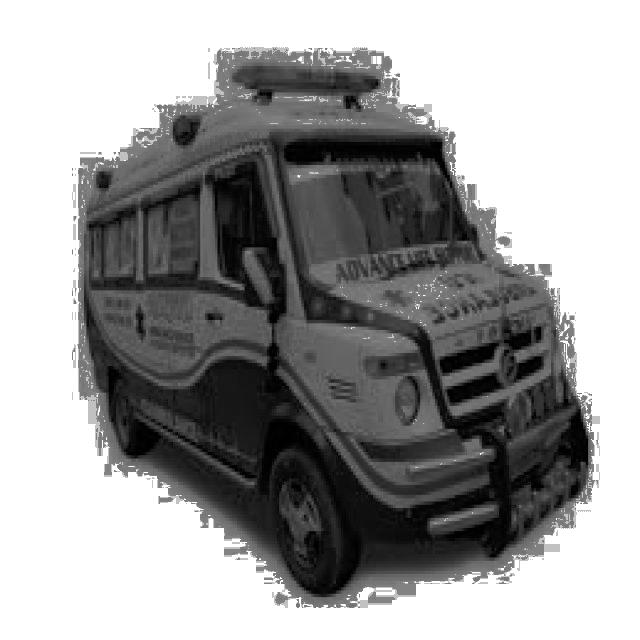LCV: (230, 61, 590, 542)
